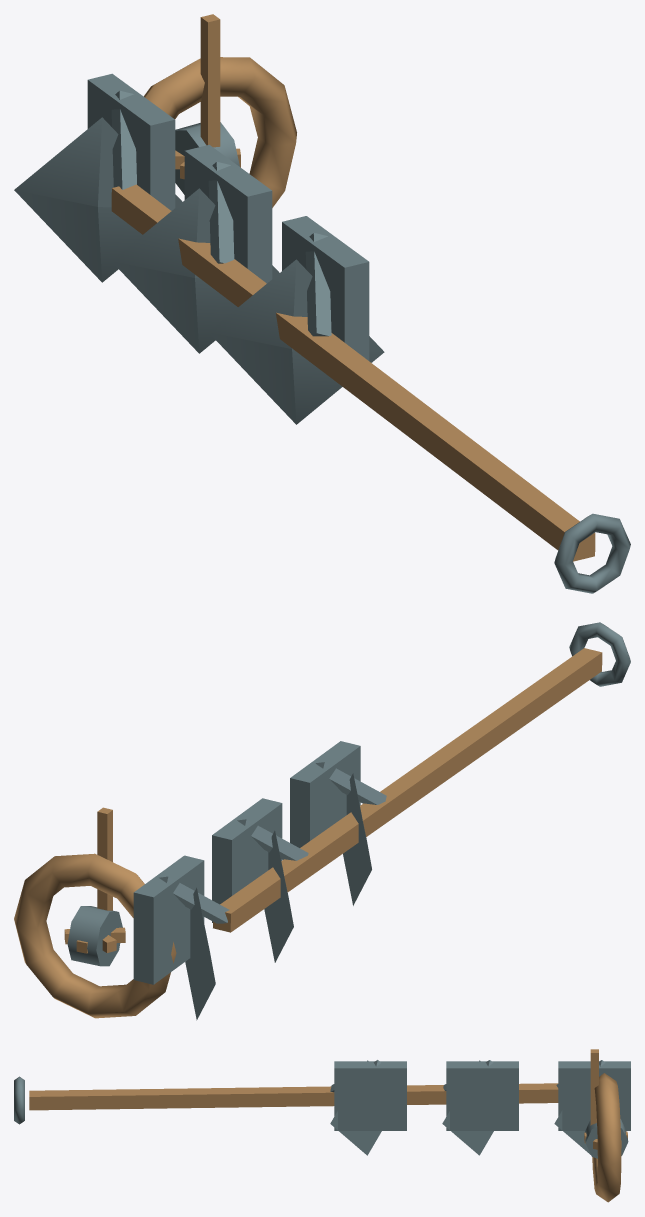
The model's file is Plow.glb.
3 views of the same model, one above another, from view 1: azimuth 30°, elevation 25°; view 2: azimuth 150°, elevation 25°; view 3: azimuth 270°, elevation 25° (orthographic). The views are drawn at different scales.
Visible parts, largest first — view 1: plow-static-plow-steel-mat, plow-static-plow-iron-mat, plow-static-plow-timber-mat, plow-static-plow-wheel-mat, plow-static-plow-accent-mat; view 2: plow-static-plow-iron-mat, plow-static-plow-timber-mat, plow-static-plow-wheel-mat, plow-static-plow-steel-mat, plow-static-plow-accent-mat; view 3: plow-static-plow-iron-mat, plow-static-plow-timber-mat, plow-static-plow-wheel-mat, plow-static-plow-steel-mat, plow-static-plow-accent-mat.
Boxes of the visible parts, x1,y1,x2,y2 form: plow-static-plow-steel-mat: [14, 117, 384, 424]; plow-static-plow-iron-mat: [87, 73, 630, 593]; plow-static-plow-timber-mat: [111, 148, 595, 561]; plow-static-plow-wheel-mat: [144, 57, 296, 207]; plow-static-plow-accent-mat: [200, 14, 220, 147]; plow-static-plow-iron-mat: [67, 622, 630, 984]; plow-static-plow-timber-mat: [64, 648, 602, 953]; plow-static-plow-wheel-mat: [14, 853, 176, 1018]; plow-static-plow-steel-mat: [185, 773, 371, 1020]; plow-static-plow-accent-mat: [97, 807, 112, 910]; plow-static-plow-iron-mat: [14, 1060, 630, 1158]; plow-static-plow-timber-mat: [29, 1083, 627, 1149]; plow-static-plow-wheel-mat: [592, 1073, 621, 1202]; plow-static-plow-steel-mat: [330, 1060, 590, 1155]; plow-static-plow-accent-mat: [590, 1049, 598, 1125].
Bounding box in the file's own units: 1.08 × 0.97 × 3.74.
